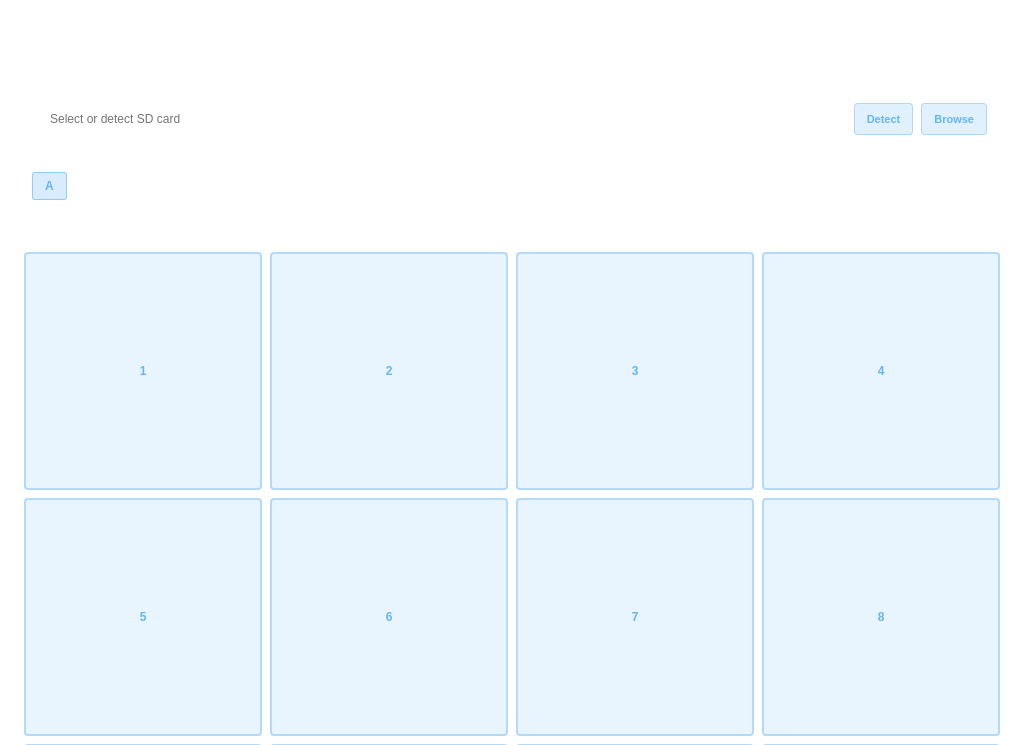
Scenario: SP404KitBuilder Component › Pad Interactions › clicking empty pad opens sample picker
Click the button with test id "pad-A-1" at (143, 371), box [24, 252, 262, 490]
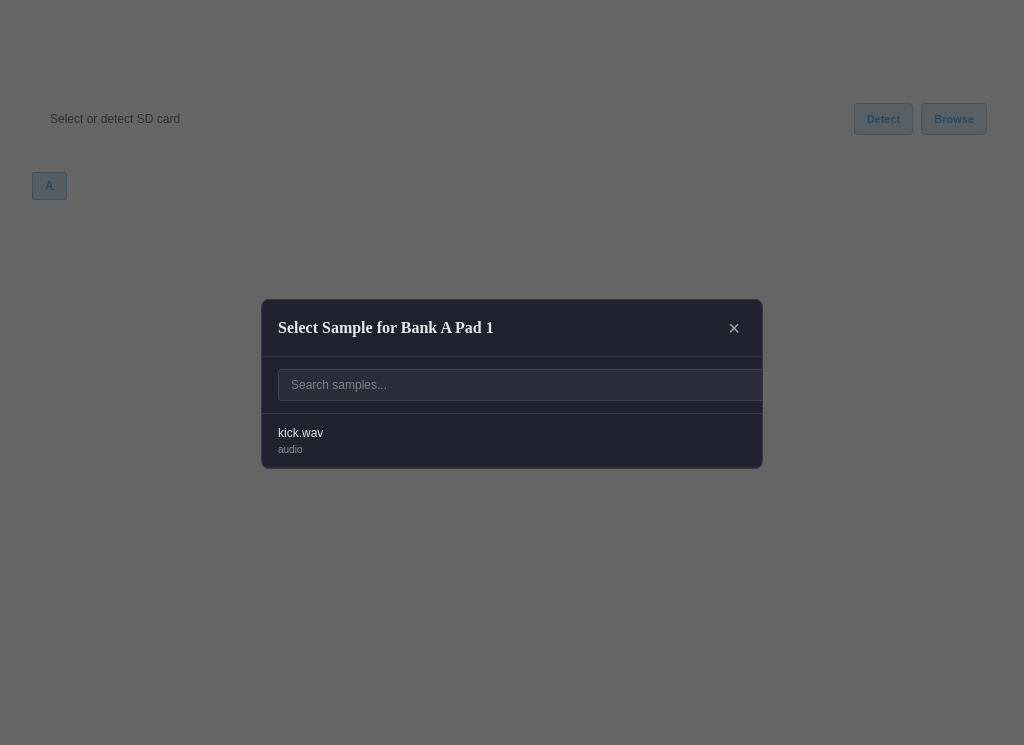
Expected: the field with placeholder "Search samples..." is shown, [278, 369, 763, 401]
